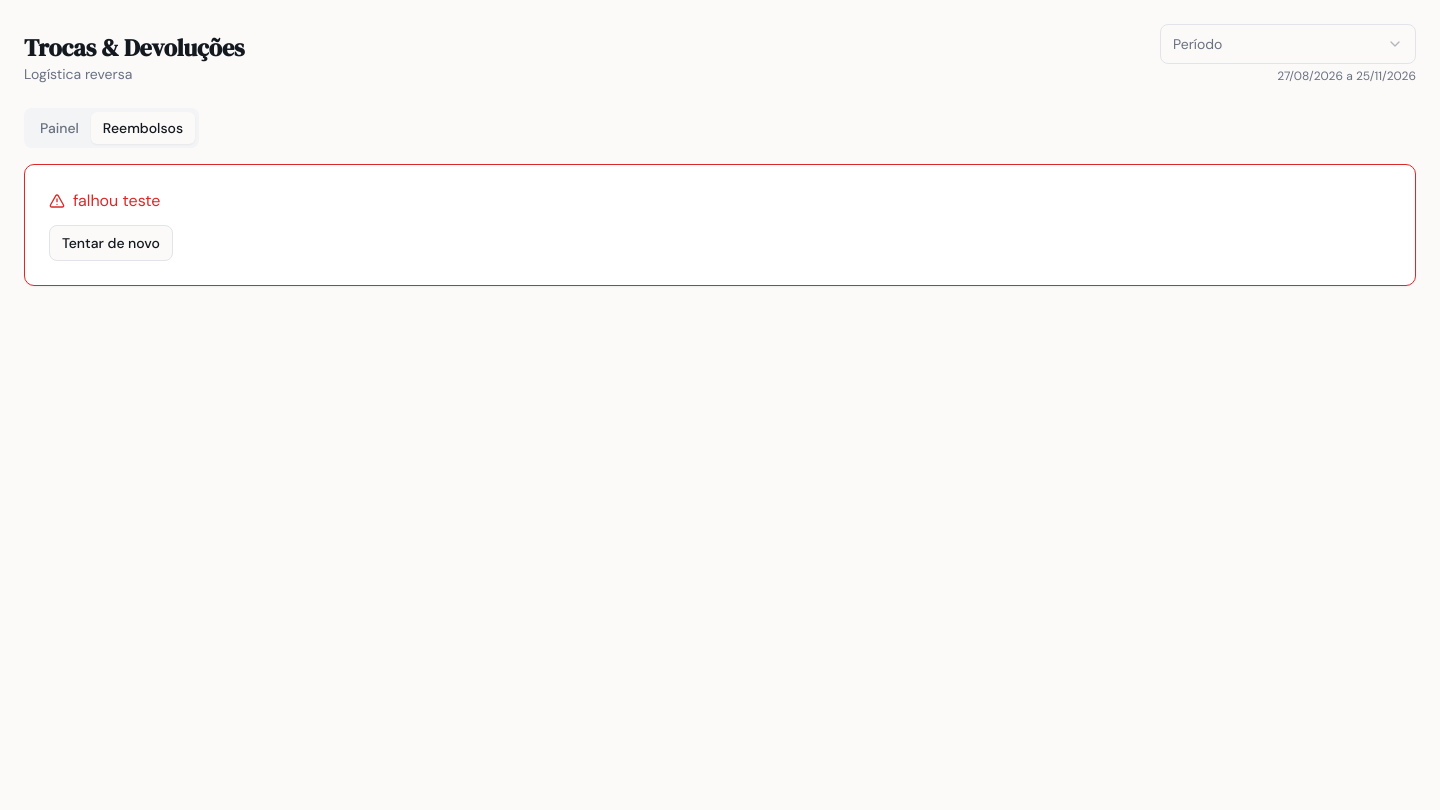
Test: aba Reembolsos › mostra erro com Tentar de novo
Expected: the text "falhou teste" is shown, [49,189,160,213]
Click the button "Tentar de novo" at x=111, y=243, box [49,225,173,261]
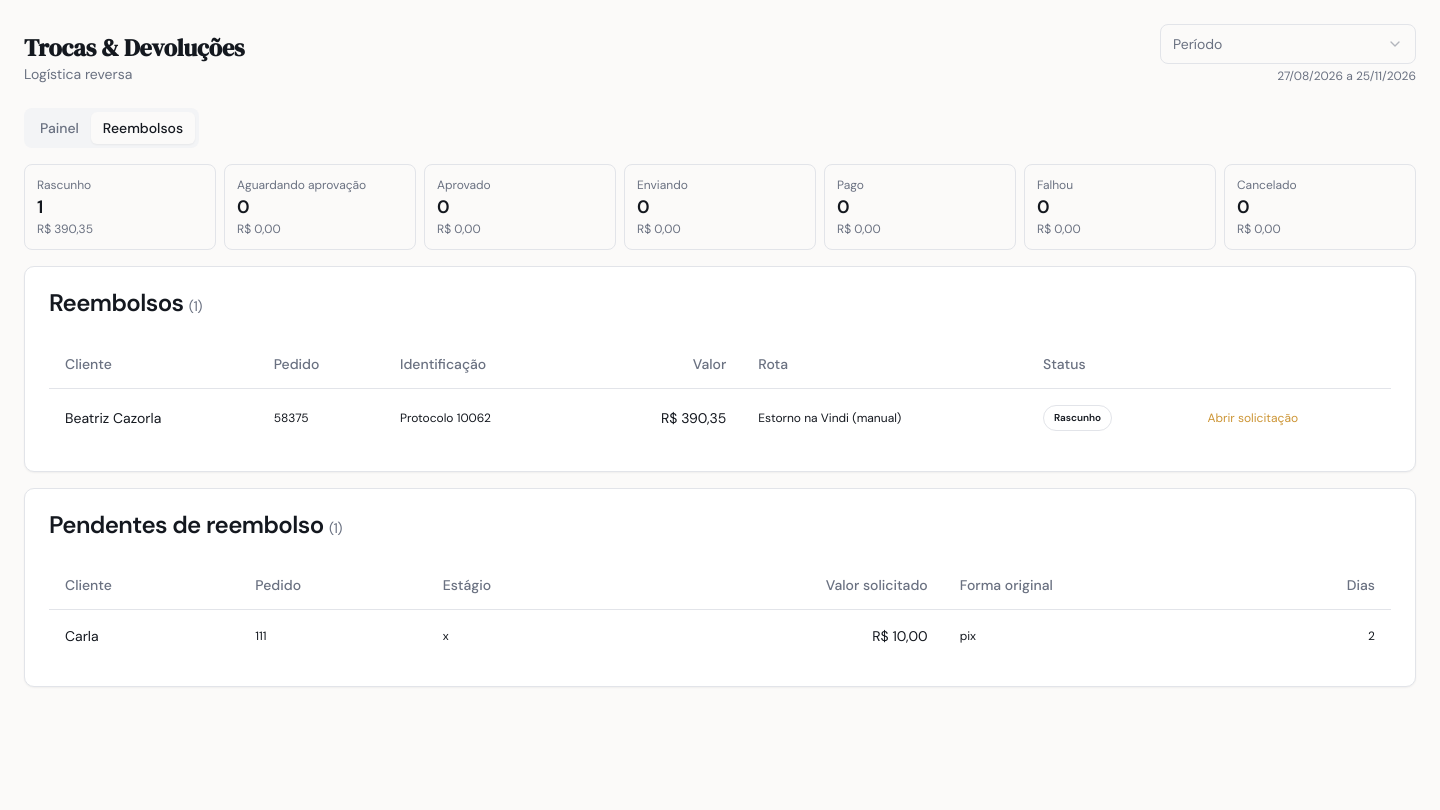
Expected: the text "Protocolo 10062" is shown, [384,388,584,446]
